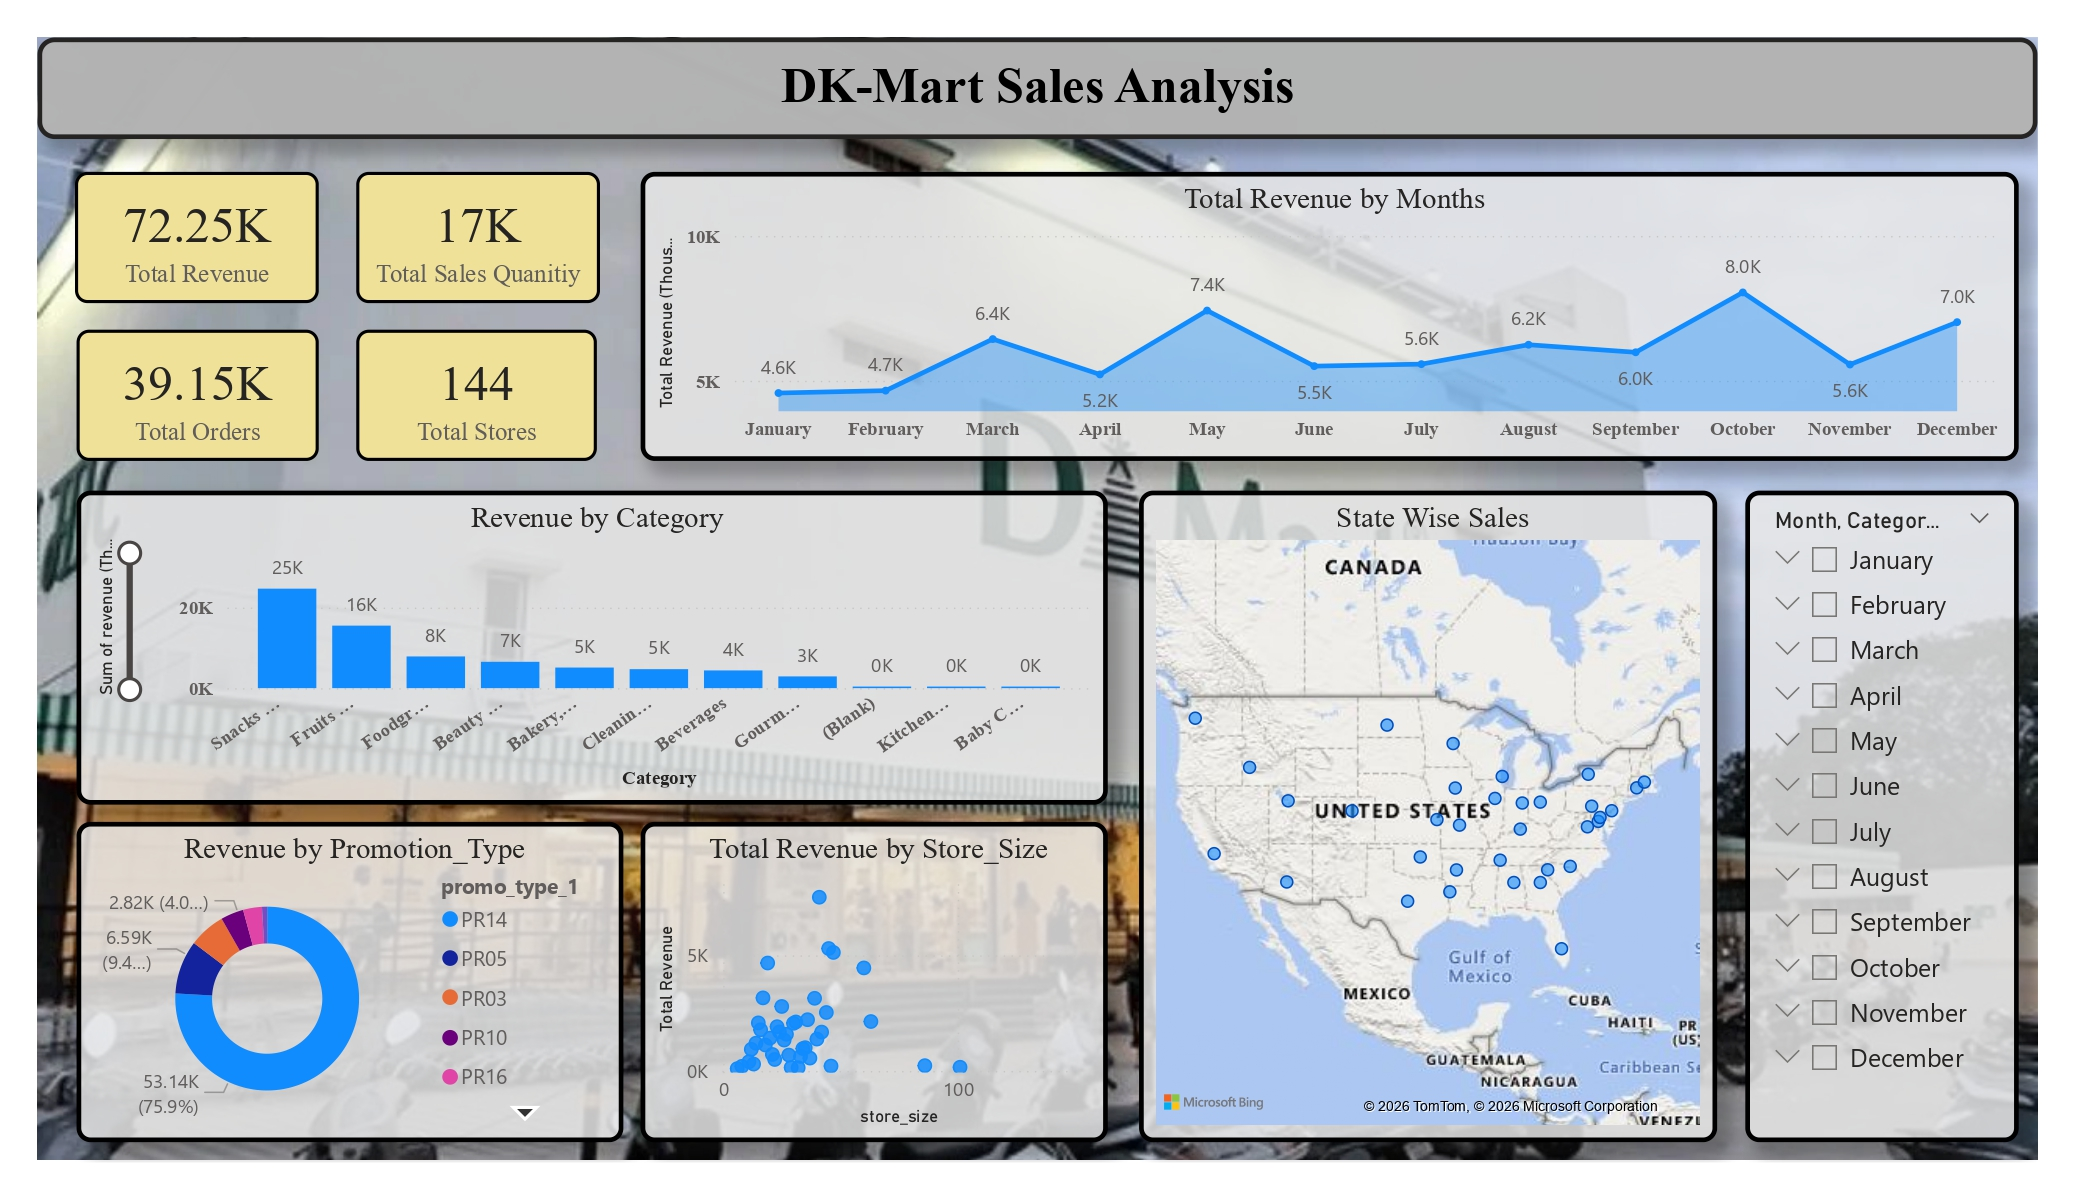

Layout of this report page (visuals, bound fields, positions):
{"tool":"powerbi","page":{"name":"Main Page","canvas":[1280,720],"ordinal":1},"visuals":[{"type":"card","fields":{"Values":["Sum(SALES.revenue)"]},"box":[24.1,85.7,155.6,84.5],"z":0},{"type":"card","fields":{"Values":["Sum(SALES.sales)"]},"box":[203.9,85.7,155.6,84.5],"z":1000},{"type":"card","fields":{"Values":["CountNonNull(SALES.order_id)"]},"box":[25.3,187,154.4,84.5],"z":2000},{"type":"card","fields":{"Values":["Count(Store_Cities_Data.store_id)"]},"box":[203.9,187,154.4,84.5],"z":3000},{"type":"textbox","box":[0,0,1280,65.1],"z":4000},{"type":"image","box":[24.3,0,208.6,57.1],"z":5000},{"type":"columnChart","title":"Revenue by Category","fields":{"Category":["04_producthierarchy.Category"],"Y":["Sum(SALES.revenue)"]},"box":[25.3,289.5,659.9,201.5],"z":6000},{"type":"areaChart","title":"Total Revenue by Months","fields":{"Category":["SALES.order_date_2.Variation.Date Hierarchy.Month"],"Y":["Sum(SALES.revenue)"]},"box":[386.1,85.7,881.9,185.8],"z":7000},{"type":"donutChart","title":"Revenue by Promotion_Type","fields":{"Category":["SALES.promo_type_1"],"Y":["Sum(SALES.revenue)"]},"box":[25.3,501.9,349.9,205.1],"z":8000},{"type":"scatterChart","title":"Total Revenue by Store_Size","fields":{"Y":["Sum(SALES.revenue)"],"X":["Store_Cities_Data.store_size"]},"box":[386.1,501.9,299.2,205.1],"z":9000},{"type":"slicer","fields":{"Values":["SALES.order_date_2.Variation.Date Hierarchy.Month","04_producthierarchy.Category","SALES.promo_type_1"]},"box":[1093,289.5,174.9,417.4],"z":10000},{"type":"map","title":"State Wise Sales","fields":{"Y":["Avg(Store_Cities_Data.Lat)"],"X":["Avg(Store_Cities_Data.Long)"],"Category":["Store_Cities_Data.State"]},"box":[704.6,289.5,370.4,417.4],"z":11000}]}

Visuals, with their boxes in screenshot pixels (x1, y1, x2, y2):
card - Sum(SALES.revenue): rect(86, 165, 326, 295)
card - Sum(SALES.sales): rect(363, 165, 603, 295)
card - CountNonNull(SALES.order_id): rect(88, 321, 326, 451)
card - Count(Store_Cities_Data.store_id): rect(363, 321, 601, 451)
textbox: rect(49, 32, 2022, 133)
image: rect(86, 32, 408, 120)
"Revenue by Category" columnChart: rect(88, 479, 1105, 790)
"Total Revenue by Months" areaChart: rect(644, 165, 2004, 451)
"Revenue by Promotion_Type" donutChart: rect(88, 806, 627, 1123)
"Total Revenue by Store_Size" scatterChart: rect(644, 806, 1105, 1123)
slicer - SALES.order_date_2.Variation.Date Hierarchy.Month x 04_producthierarchy.Category: rect(1734, 479, 2004, 1122)
"State Wise Sales" map: rect(1135, 479, 1706, 1122)
